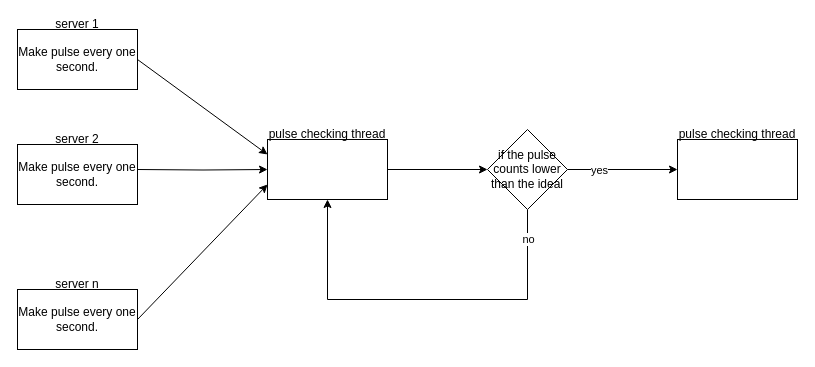
The diagram is 815 pixels wide and 367 high, and some of its shapes have lost their labels. The centre of each missing label's shape, as x and y in pixels:
checks pulse count every 3 seconds: (327,169)
sends back tasks to the scheduler: (737,169)
